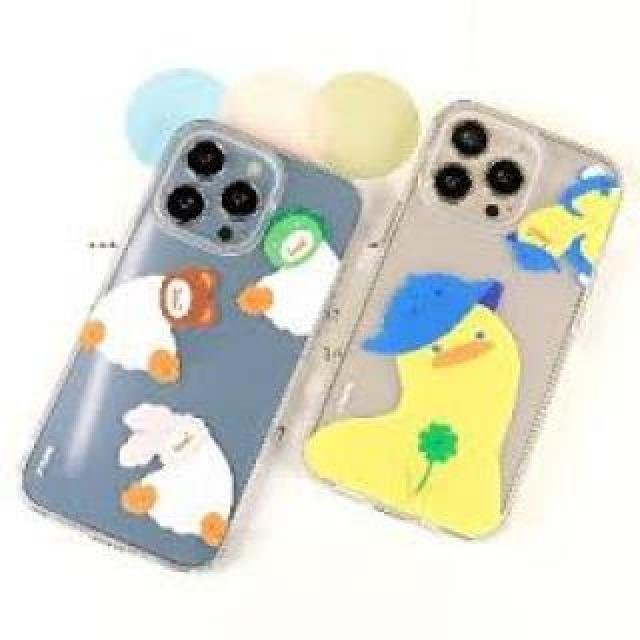smart phone: (28, 115, 367, 570), (348, 73, 614, 525)
